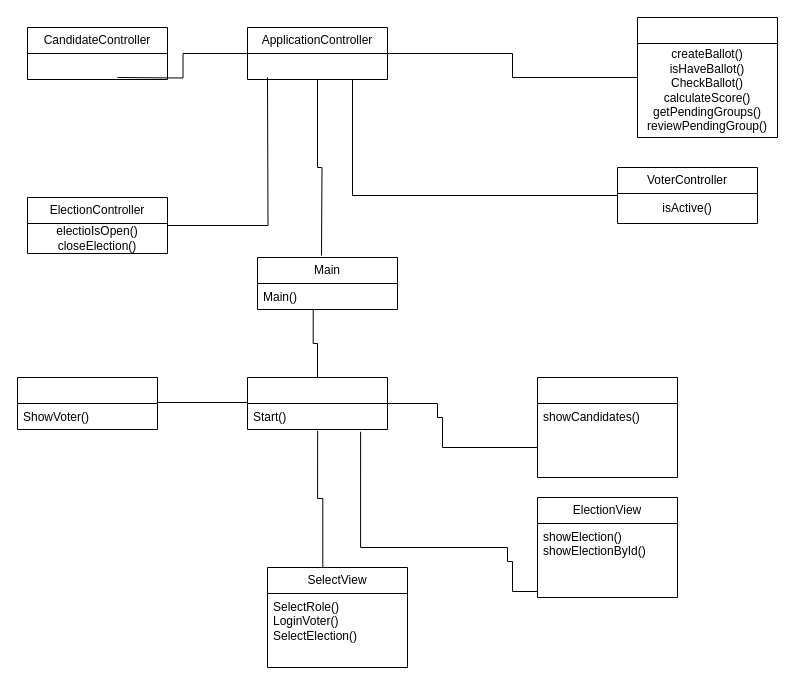
This 795x688 diagram has some shape labels left out. The box of each missing label's shape, as (x1, y1, x2, y2) in pixels:
BallotController: (636, 16, 778, 138)
CandidateView: (536, 376, 678, 478)
MainView: (246, 376, 388, 430)
VoterView: (16, 376, 158, 430)
